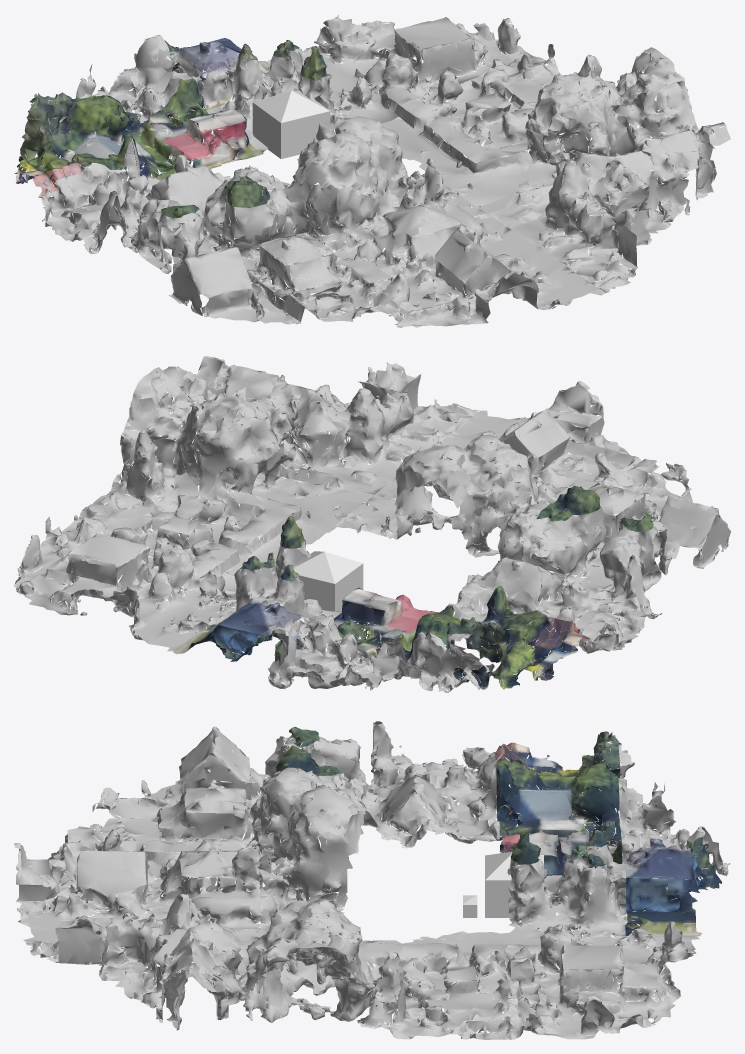
Rendered from Umgebung.gltf.
The picture shows the model from 3 angles, top to bottom: view 1: azimuth 30°, elevation 25°; view 2: azimuth 150°, elevation 25°; view 3: azimuth 270°, elevation 25°; orthographic projection. The views are drawn at different scales.
Visible parts, largest first — view 1: Material_Tile-142-63-1-1_1.001, Cube.017; view 2: Material_Tile-142-63-1-1_1.001, Cube.017; view 3: Material_Tile-142-63-1-1_1.001, Cube.017.
Boxes of the visible parts, x1,y1,x2,y2 form: Material_Tile-142-63-1-1_1.001: (14,14,730,327); Cube.017: (252,90,330,158); Material_Tile-142-63-1-1_1.001: (14,356,730,692); Cube.017: (294,551,363,611); Material_Tile-142-63-1-1_1.001: (14,721,730,1039); Cube.017: (485,851,543,917).
Bounding box in the file's own units: 112 × 20.44 × 121.
